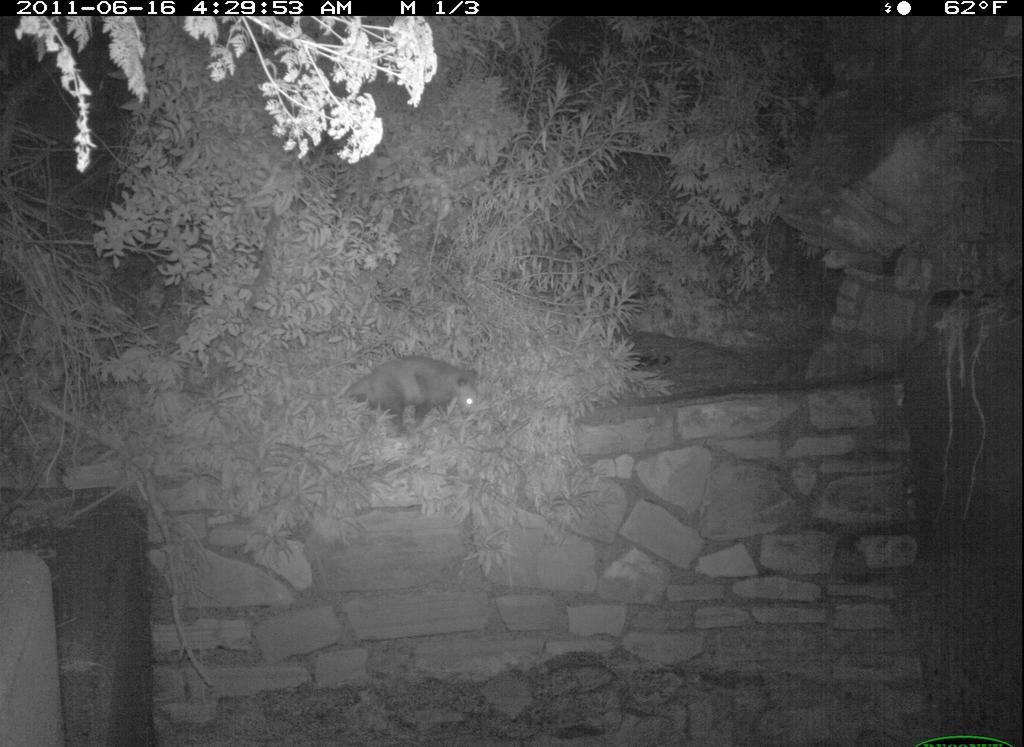opossum: (331, 351, 501, 433)
